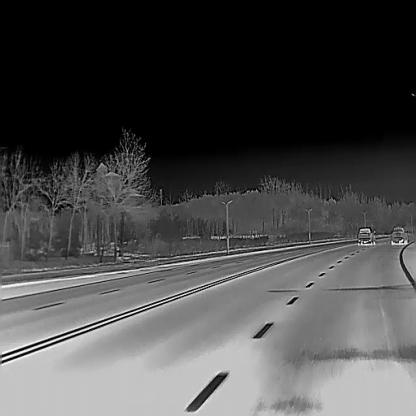car: (390, 225, 408, 244), (357, 226, 375, 244)
